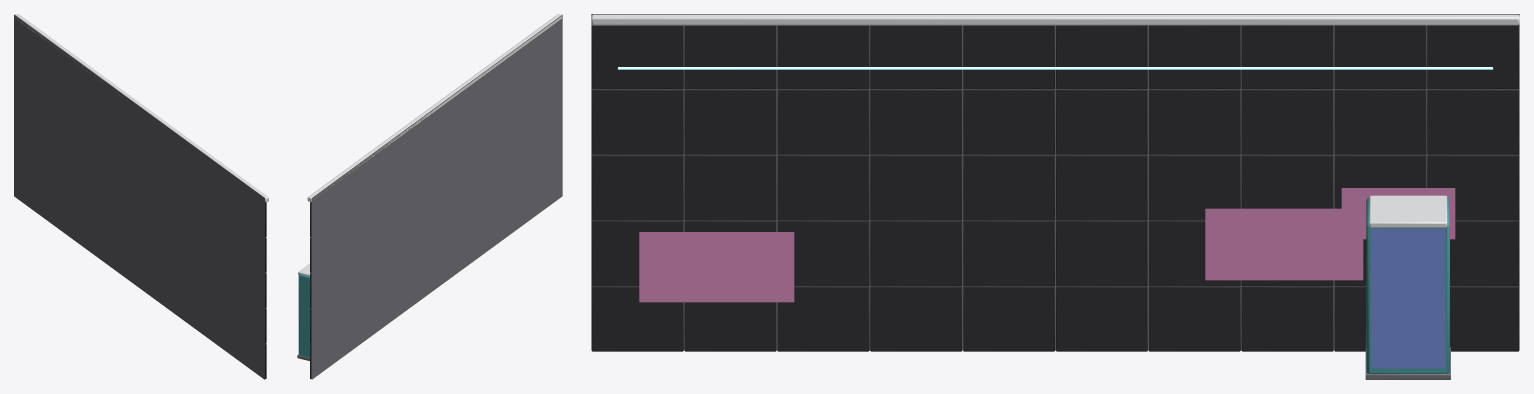
File: side_ground_retro_10.glb
3 views of the same model, side by side, from view 1: azimuth 30°, elevation 25°; view 2: azimuth 150°, elevation 25°; view 3: azimuth 270°, elevation 25° (orthographic). The views are drawn at different scales.
Parts seen in each view (by area): view 1: side_ground_retro_10; view 2: side_ground_retro_10; view 3: side_ground_retro_10.
Boxes of the visible parts, box(x1,y1,x2,y2) form: side_ground_retro_10: box(14, 14, 268, 379); side_ground_retro_10: box(297, 14, 562, 379); side_ground_retro_10: box(591, 14, 1519, 379).
Size of the model in its own units: 0.77 by 4 by 10.
